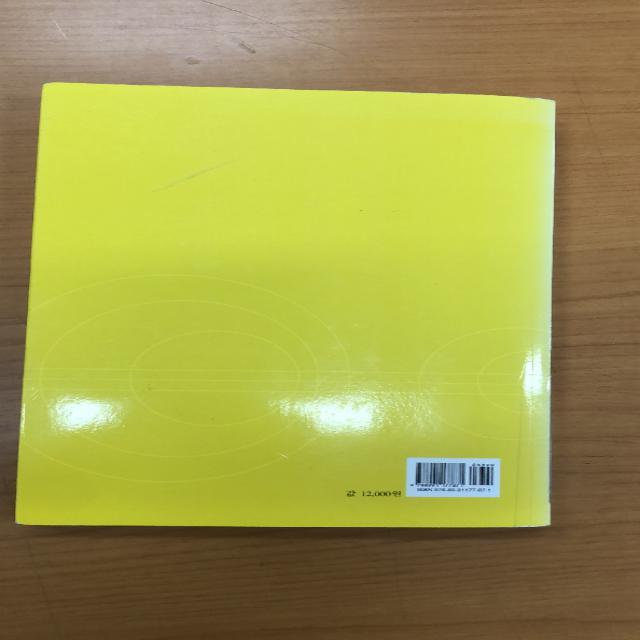Wornout: (508, 92, 563, 109), (511, 521, 554, 531)
